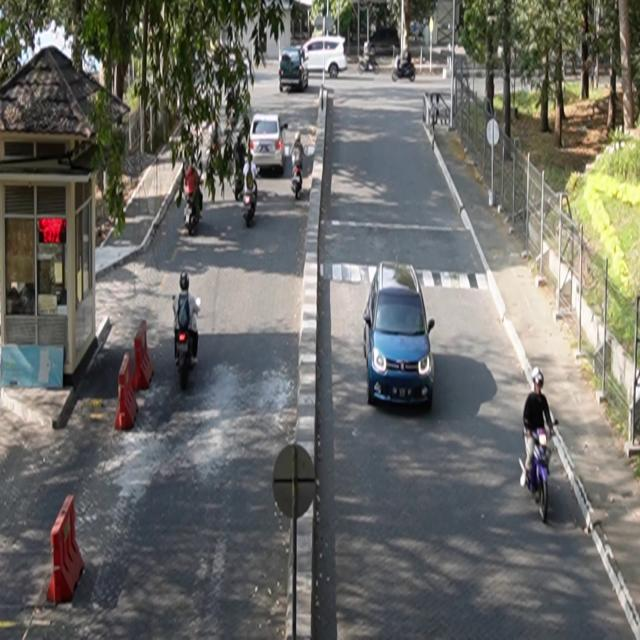car: (363, 262, 436, 410), (249, 114, 289, 175), (280, 47, 310, 93)
